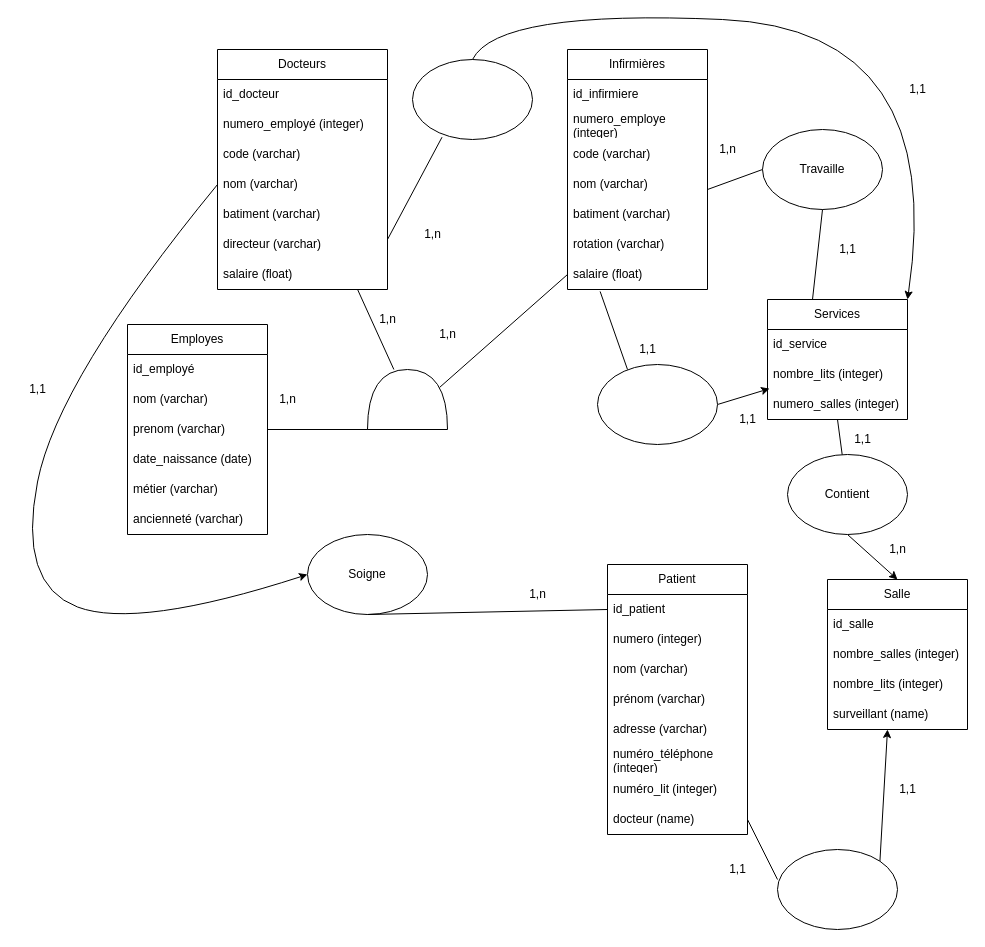
The diagram is 985 pixels wide and 947 high, and some of its shapes have lost their labels. The shapes that lost their labels are listed below. From the top down, each one's centre as x and y in pixels, then its label:
At (472,99): "est directeur de".
At (407,399): "XT".
At (657,404): "est affecté à".
At (837,889): "Occupe".
